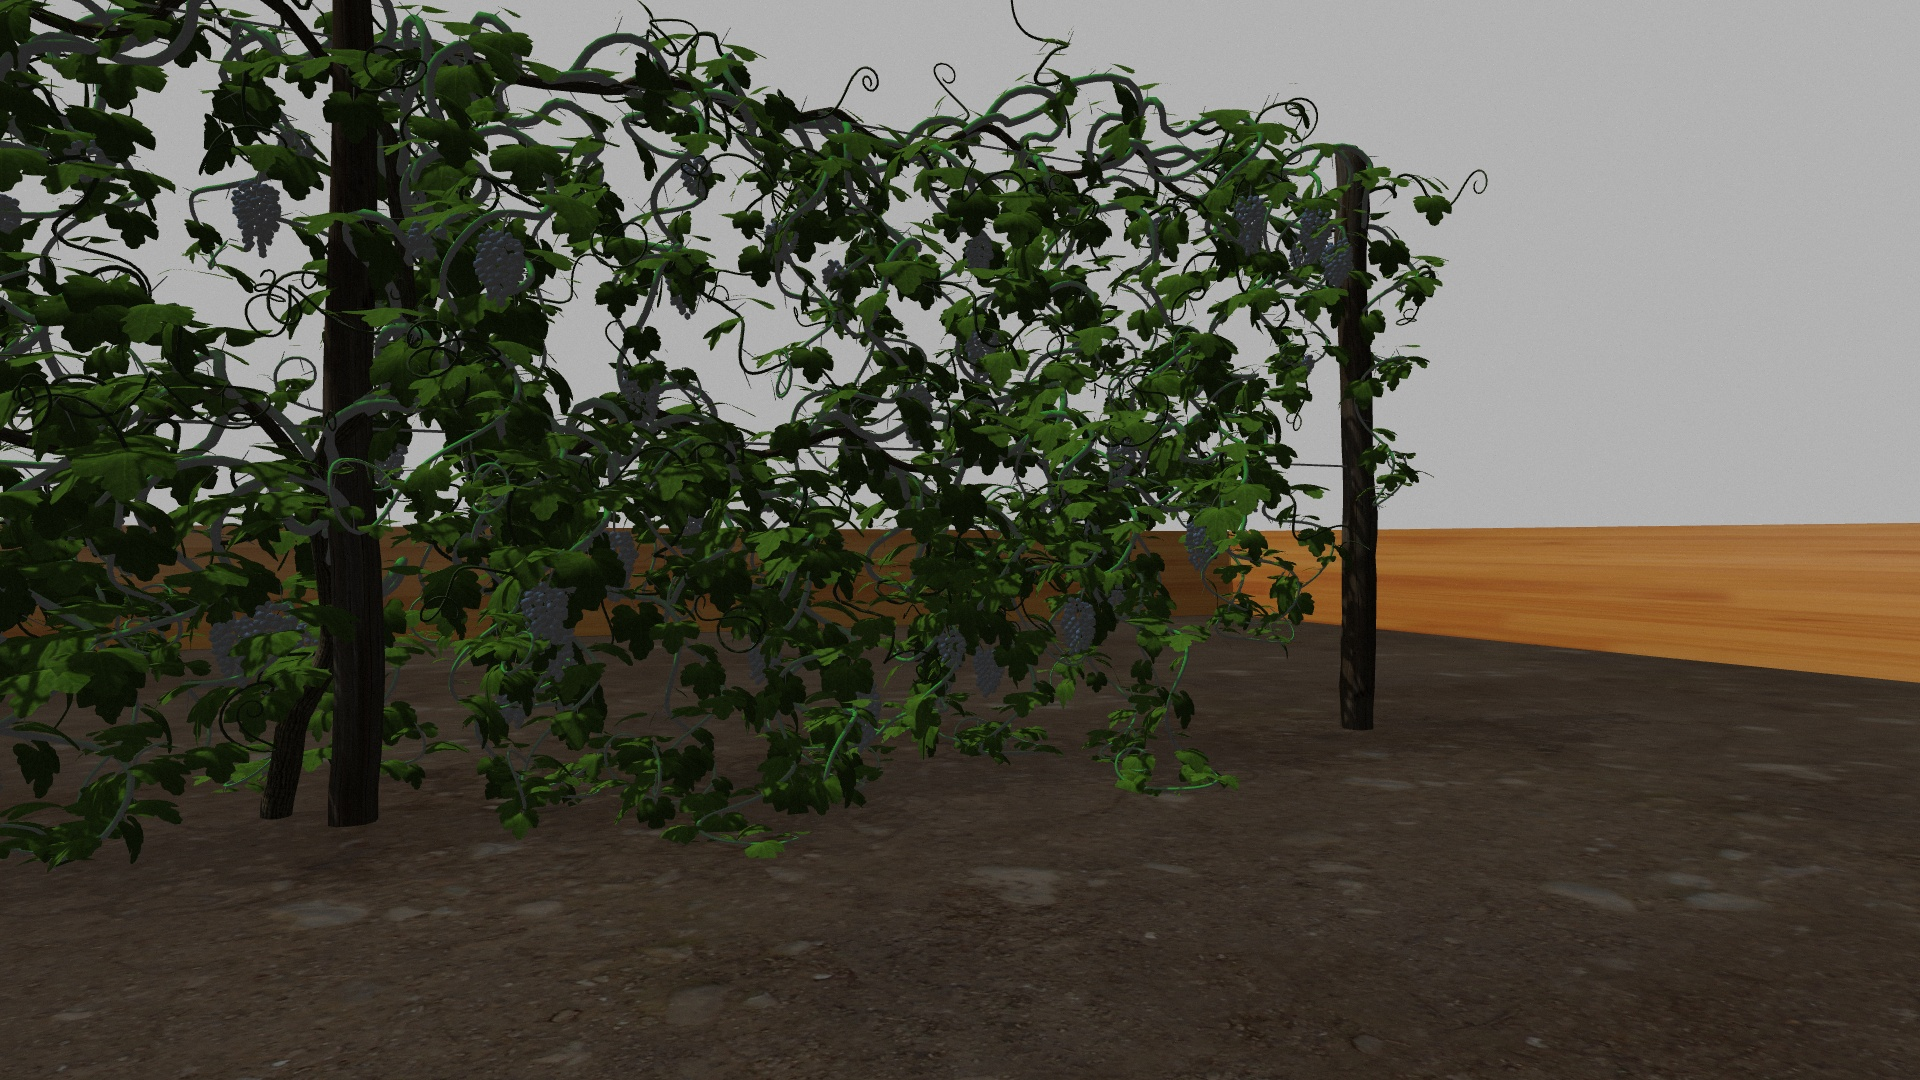grape: (471, 225, 527, 314), (231, 185, 284, 253), (518, 584, 568, 646), (208, 620, 252, 679), (1234, 191, 1269, 255), (1059, 597, 1097, 653), (1299, 204, 1333, 258), (975, 644, 1006, 696), (1185, 521, 1217, 570), (1323, 241, 1354, 286), (963, 233, 994, 270), (938, 632, 967, 670)
